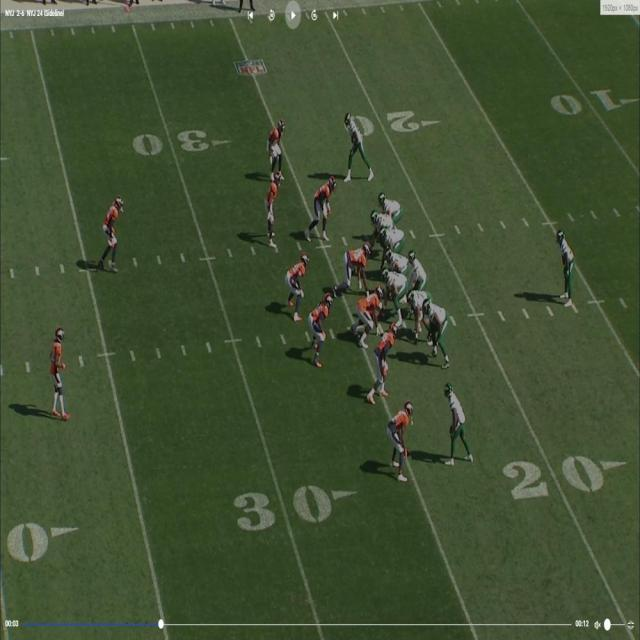center: (382, 270, 404, 308)
db: (52, 326, 70, 419), (104, 197, 124, 270), (393, 398, 414, 466), (271, 118, 288, 172), (559, 231, 573, 293)
lb: (309, 294, 328, 366), (288, 250, 308, 315), (377, 326, 394, 399), (268, 175, 280, 245)
qb: (408, 248, 425, 286)
skill: (344, 114, 367, 180), (447, 384, 469, 447), (382, 191, 401, 217), (371, 209, 394, 229)
